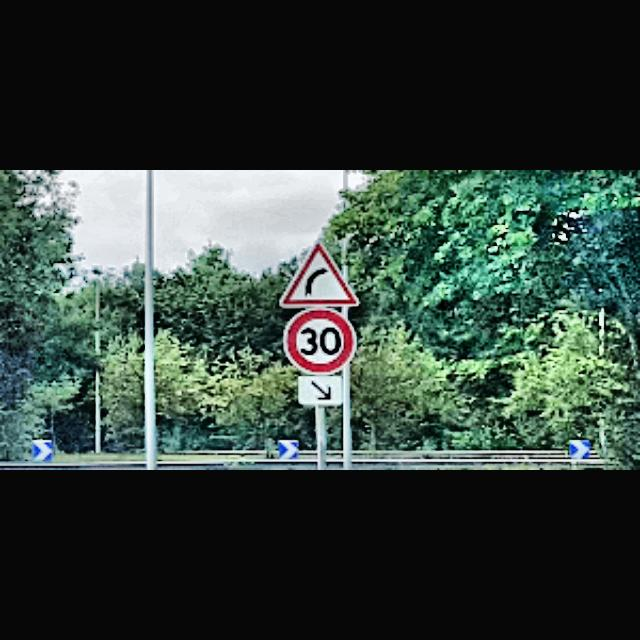speed_30: (284, 310, 356, 376)
